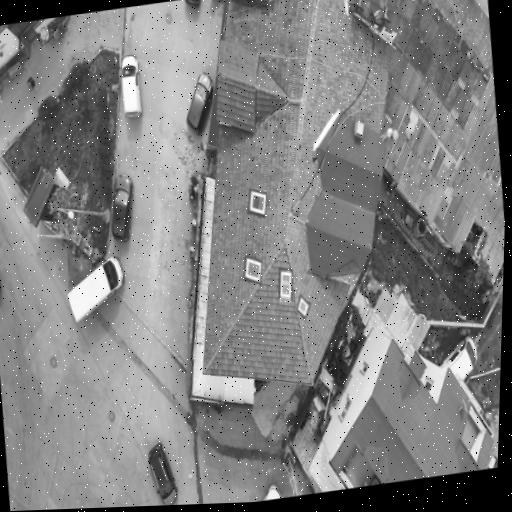car: (68, 256, 124, 323), (148, 443, 176, 504), (186, 72, 212, 134), (442, 337, 476, 379), (111, 175, 132, 241), (120, 55, 141, 117), (0, 235, 4, 303), (264, 485, 281, 500), (185, 0, 199, 6)
person: (27, 78, 37, 91), (0, 84, 3, 105)
